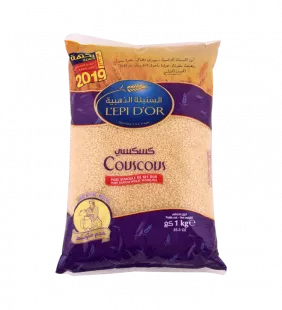L'EPI D'OR: (45, 27, 236, 284)
